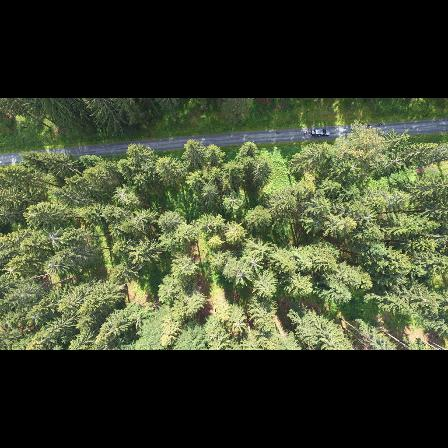Sick: (42, 223, 67, 253), (244, 255, 270, 275)
